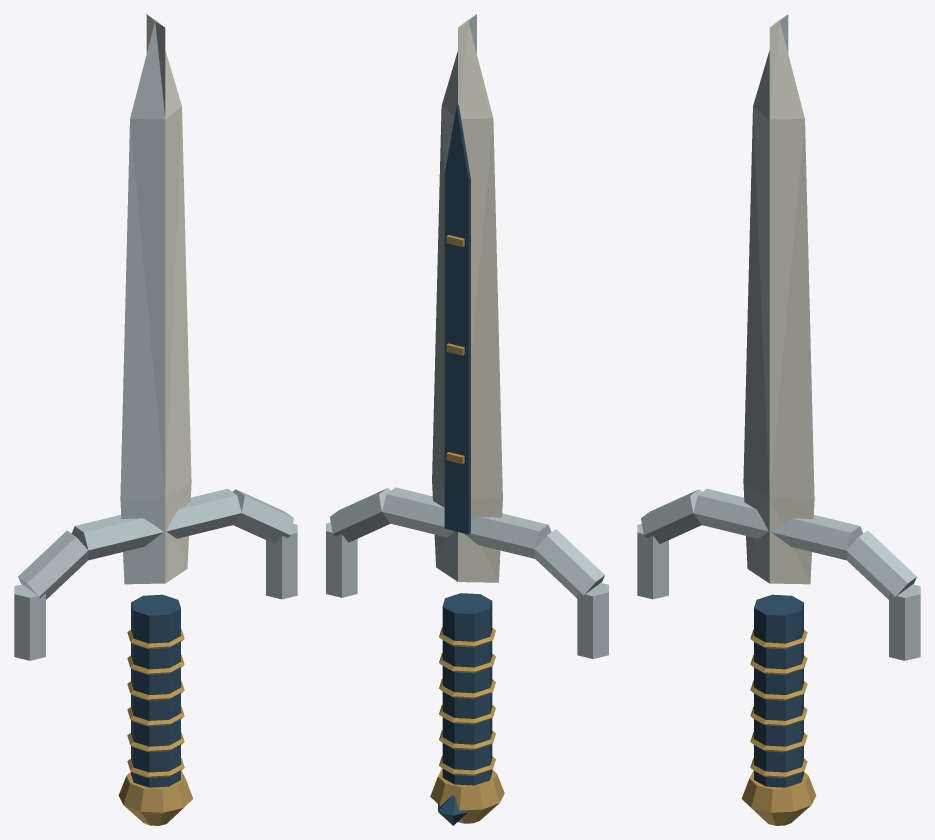
Rendered from UnfinishedOath.fbx.
The picture shows the model from 3 angles, left to right: view 1: azimuth 30°, elevation 25°; view 2: azimuth 150°, elevation 25°; view 3: azimuth 330°, elevation 25°; orthographic projection.
Parts seen in each view (by area): view 1: Legendary_UnfinishedOath; view 2: Legendary_UnfinishedOath; view 3: Legendary_UnfinishedOath.
Boxes of the visible parts, x1,y1,x2,y2 form: Legendary_UnfinishedOath: [14, 14, 297, 825]; Legendary_UnfinishedOath: [326, 14, 608, 825]; Legendary_UnfinishedOath: [637, 14, 920, 825].
Bounding box in the file's own units: 0.518 × 1.39 × 0.1258.
